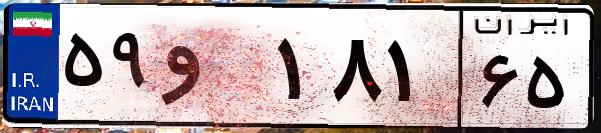1: (270, 28, 330, 110), (385, 28, 445, 110)
5: (57, 26, 110, 100), (525, 38, 570, 115)
6: (475, 38, 525, 113)
8: (330, 28, 385, 110)
9: (110, 28, 158, 98)
و: (158, 20, 270, 120)
